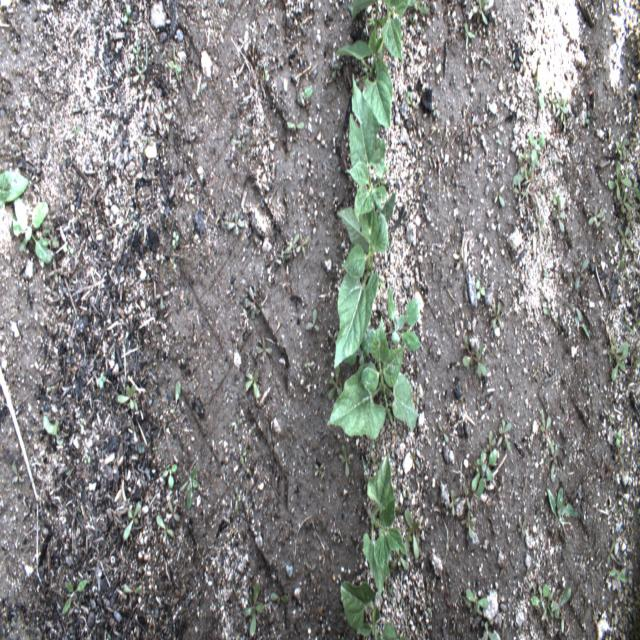crop: (332, 192, 397, 366), (329, 319, 420, 443), (362, 457, 404, 597), (336, 29, 392, 127), (347, 78, 386, 214), (348, 1, 413, 62), (339, 582, 408, 639)
weed: (13, 196, 53, 263), (388, 290, 424, 352), (545, 484, 576, 526), (474, 445, 497, 498), (242, 583, 264, 637), (342, 328, 372, 366), (462, 337, 488, 379), (0, 171, 28, 208), (548, 590, 572, 633), (180, 460, 200, 511), (404, 505, 422, 559), (62, 579, 88, 616), (607, 162, 633, 198), (464, 586, 490, 616), (123, 501, 141, 543), (610, 343, 628, 382), (574, 302, 592, 337), (497, 412, 513, 451), (471, 0, 494, 27), (243, 284, 260, 320), (528, 583, 549, 612), (540, 409, 554, 452), (44, 415, 62, 448), (574, 256, 590, 292), (116, 383, 137, 410), (528, 133, 544, 168), (471, 449, 485, 488), (534, 65, 545, 113), (551, 196, 565, 233), (364, 444, 379, 478), (168, 46, 182, 82), (256, 337, 275, 362), (244, 368, 259, 399), (162, 462, 178, 491), (157, 514, 173, 542), (284, 230, 300, 258), (390, 550, 409, 573), (328, 369, 342, 400), (616, 225, 633, 250), (404, 88, 420, 114), (608, 565, 628, 585), (587, 205, 604, 228), (228, 208, 243, 234), (340, 443, 351, 478), (171, 382, 182, 417), (222, 378, 236, 405), (544, 453, 557, 482), (618, 316, 640, 333), (628, 608, 640, 639), (294, 233, 310, 256), (154, 290, 171, 311), (614, 136, 628, 161), (239, 449, 252, 475), (557, 95, 568, 125), (492, 301, 503, 330), (463, 20, 474, 49), (306, 308, 318, 334), (296, 89, 313, 107), (164, 502, 181, 520), (43, 281, 59, 300), (465, 510, 475, 540), (518, 145, 530, 170), (122, 3, 133, 30), (96, 367, 108, 391), (51, 258, 62, 284), (512, 168, 531, 183), (449, 488, 458, 519), (438, 423, 449, 448), (228, 135, 245, 151), (619, 191, 631, 213), (230, 408, 240, 434), (514, 182, 527, 202), (542, 305, 558, 321), (517, 513, 528, 536), (482, 618, 494, 639), (313, 461, 327, 479), (270, 592, 289, 605), (432, 96, 441, 122), (548, 90, 556, 119), (452, 246, 463, 267), (171, 230, 181, 252), (494, 185, 505, 204), (607, 540, 615, 565), (12, 463, 22, 483), (464, 483, 472, 508), (486, 428, 496, 448), (408, 12, 417, 34), (122, 212, 134, 228), (602, 408, 614, 424), (332, 61, 342, 80), (132, 43, 142, 62), (538, 215, 546, 238), (124, 584, 142, 594), (135, 66, 145, 84), (240, 124, 249, 144), (618, 250, 626, 272), (602, 343, 611, 362), (596, 55, 608, 69), (476, 282, 485, 300), (615, 426, 623, 446), (629, 344, 637, 364), (140, 135, 154, 146), (631, 202, 639, 221), (428, 598, 434, 623), (64, 241, 74, 256), (73, 121, 82, 137), (547, 155, 556, 171), (633, 181, 639, 202), (626, 214, 635, 228), (304, 361, 312, 376), (610, 338, 618, 352), (585, 109, 591, 127), (287, 122, 304, 128), (498, 435, 502, 460), (510, 50, 514, 70), (629, 137, 633, 150), (554, 191, 556, 204)
